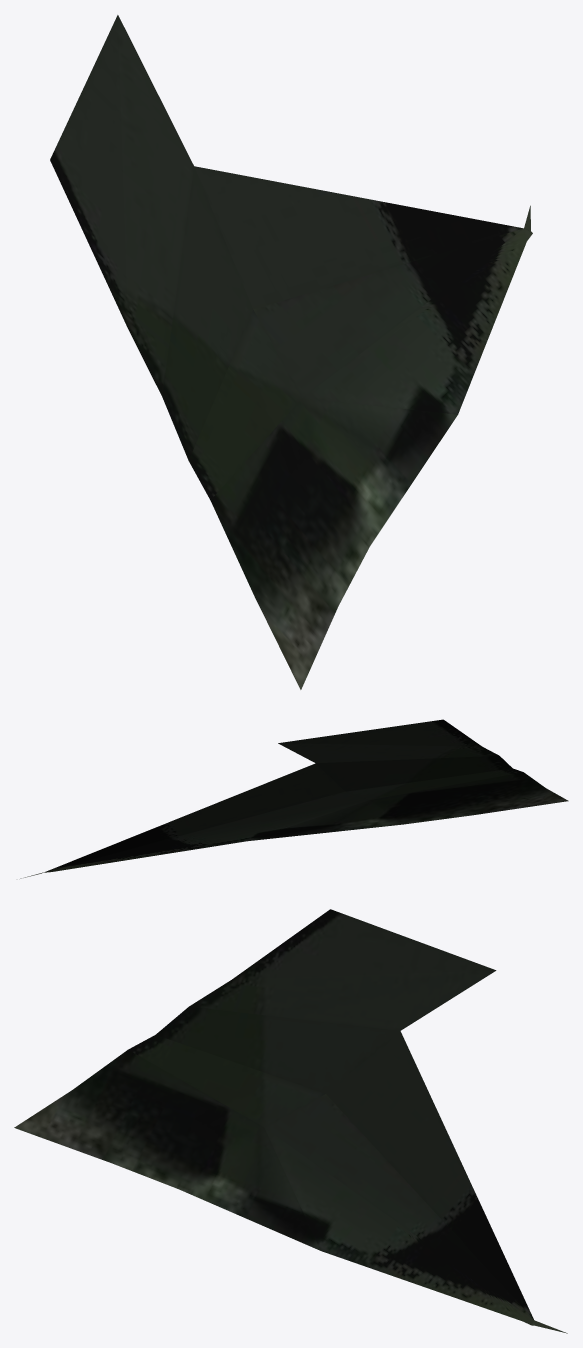
The picture shows the model from 3 angles, top to bottom: view 1: azimuth 30°, elevation 25°; view 2: azimuth 150°, elevation 25°; view 3: azimuth 270°, elevation 25°; orthographic projection. The views are drawn at different scales.
Bounding box in the file's own units: 8.86 × 4.39 × 10.08.
1 material, 1 textured.
